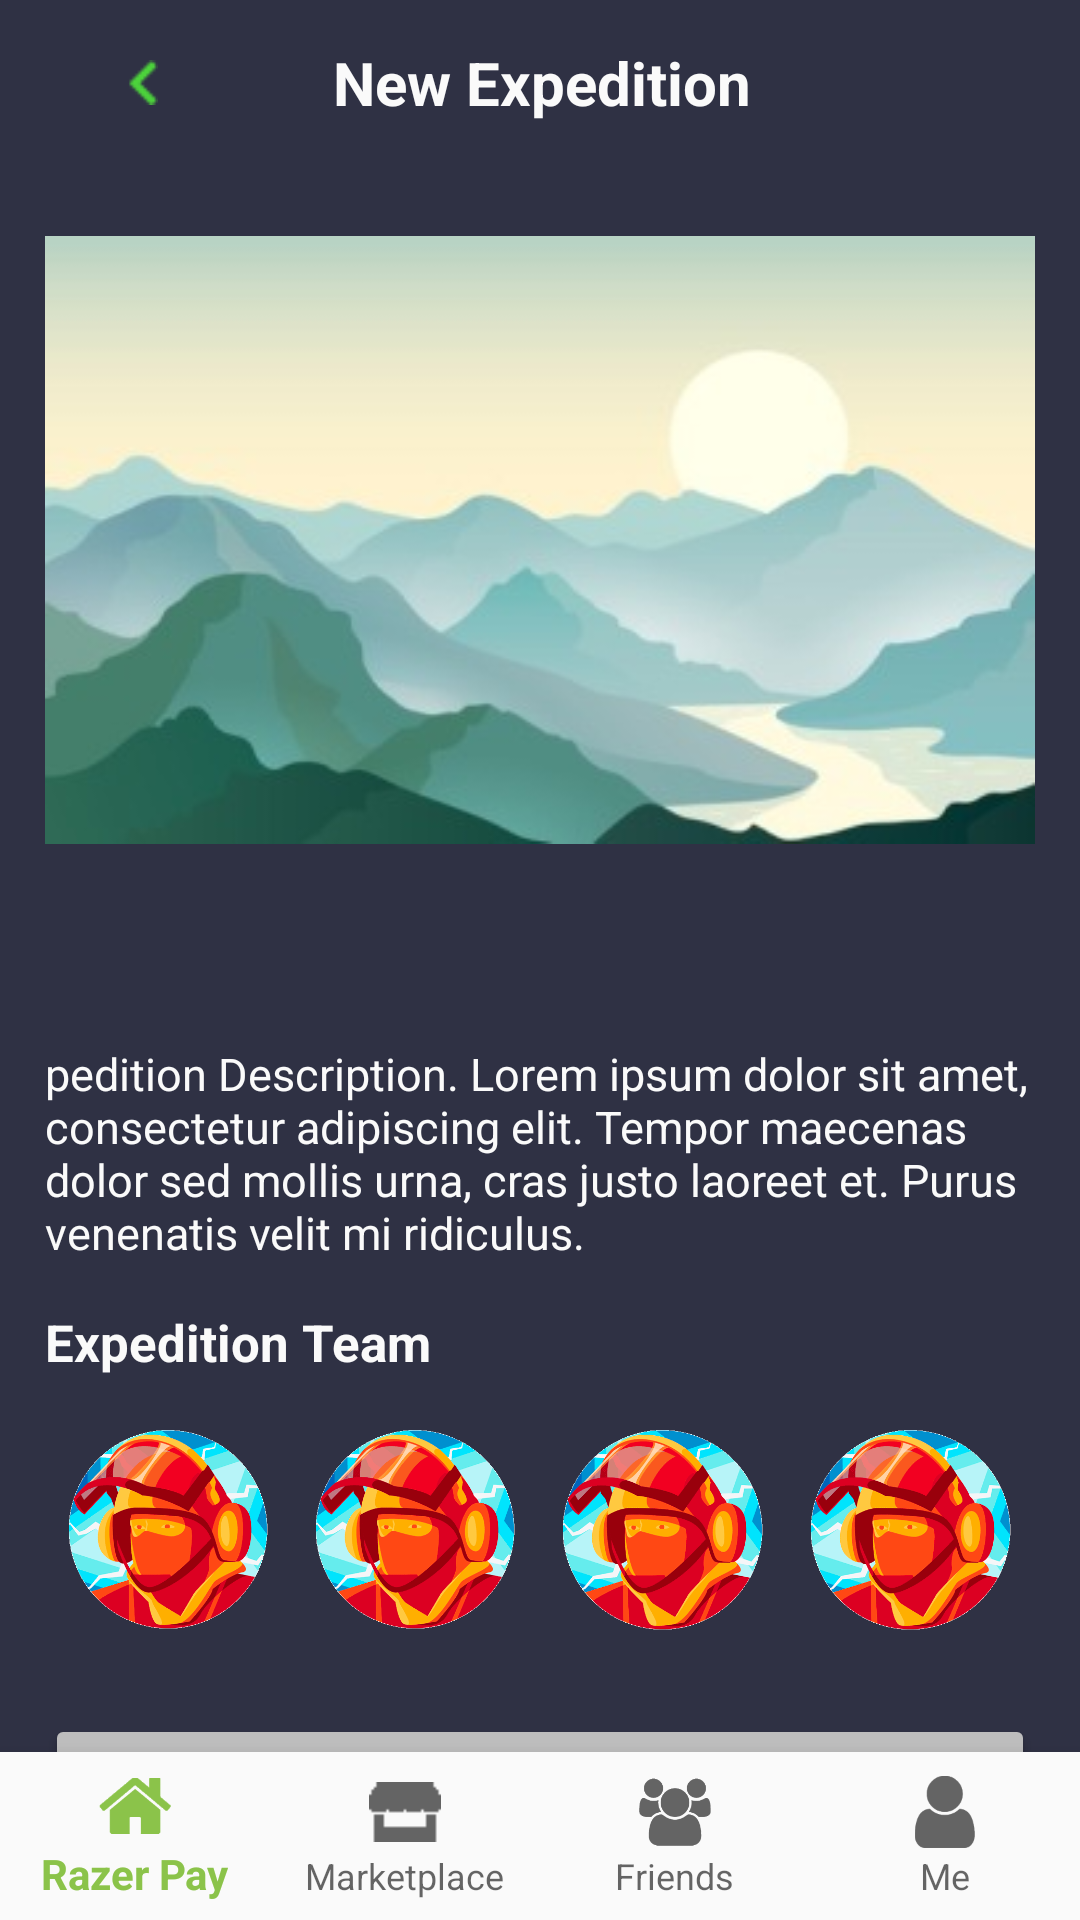

Screen size 1080*1920. Icon name, then its center in pixels as [x,y]:
chevronleft: [143,82]
profile picture: [168,1529], [415,1529], [663,1530], [911,1530]
